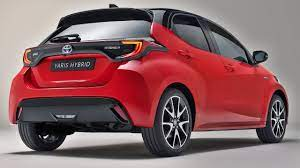Toyota: (13, 12, 288, 141)
